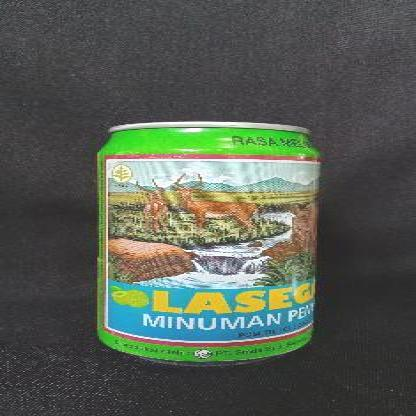alumunium_can: (98, 122, 322, 367)
